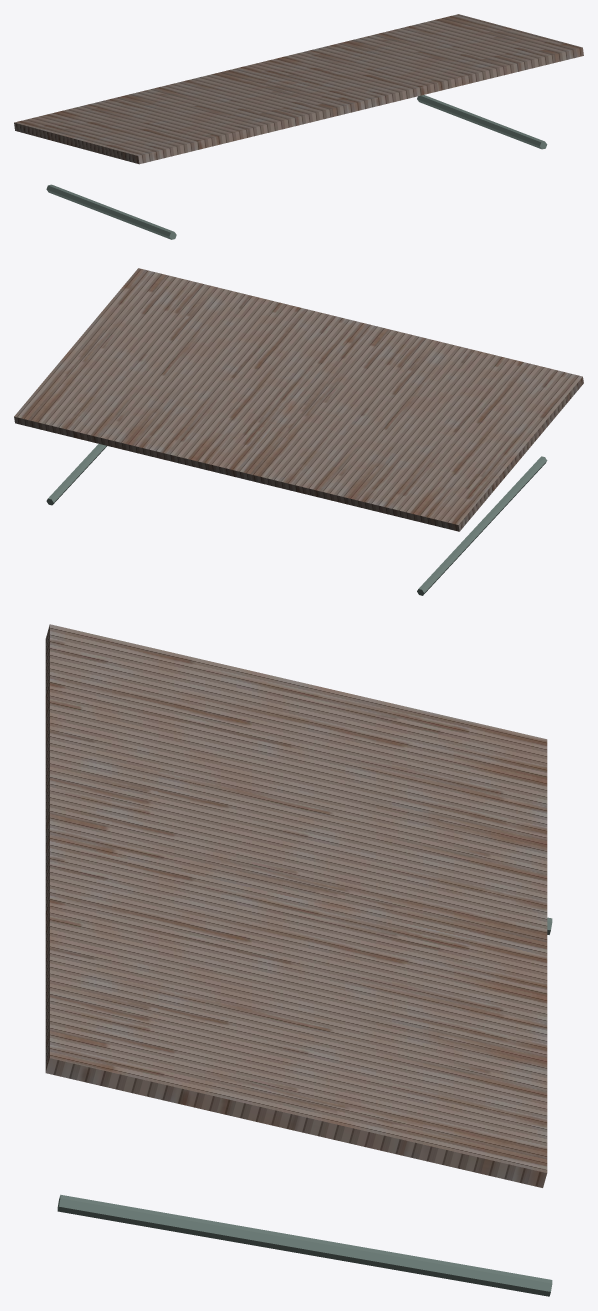
The model's file is awning_tin.glb.
3 views of the same model, one above another, from view 1: azimuth 30°, elevation 25°; view 2: azimuth 150°, elevation 25°; view 3: azimuth 270°, elevation 25° (orthographic). The views are drawn at different scales.
Parts seen in each view (by area): view 1: awning_tin; view 2: awning_tin; view 3: awning_tin.
Part boxes in pixels (bbox=[...]): awning_tin: bbox=[14, 14, 583, 239]; awning_tin: bbox=[14, 268, 583, 595]; awning_tin: bbox=[45, 624, 552, 1296].
Bounding box in the file's own units: 2.4 × 0.7042 × 1.18.
Materials: 2 (1 with a texture image).
